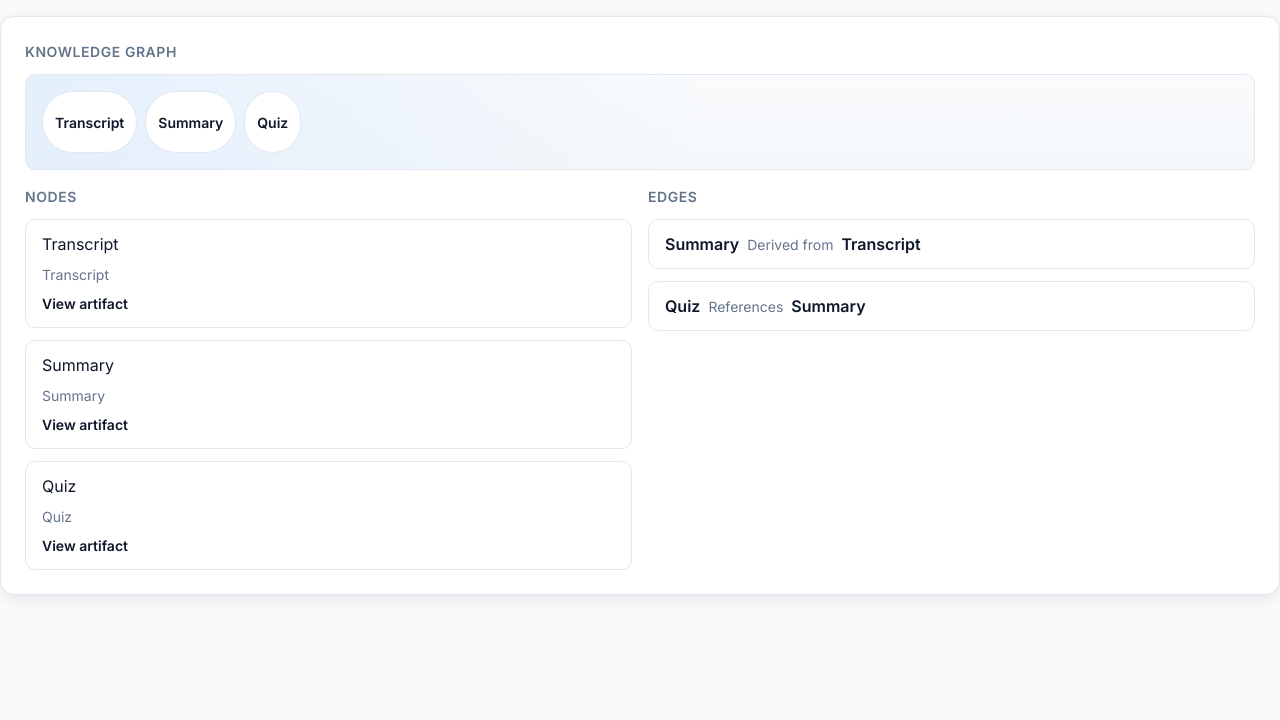
Test: KnowledgeGraphPanel › shows message when selected artifact has no neighbors
The image size is (1280, 720).
Click the button with test id "graph-node-select-550e8400-e29b-41d4-a716-446655440001" at (80, 244), box [42, 232, 615, 285]
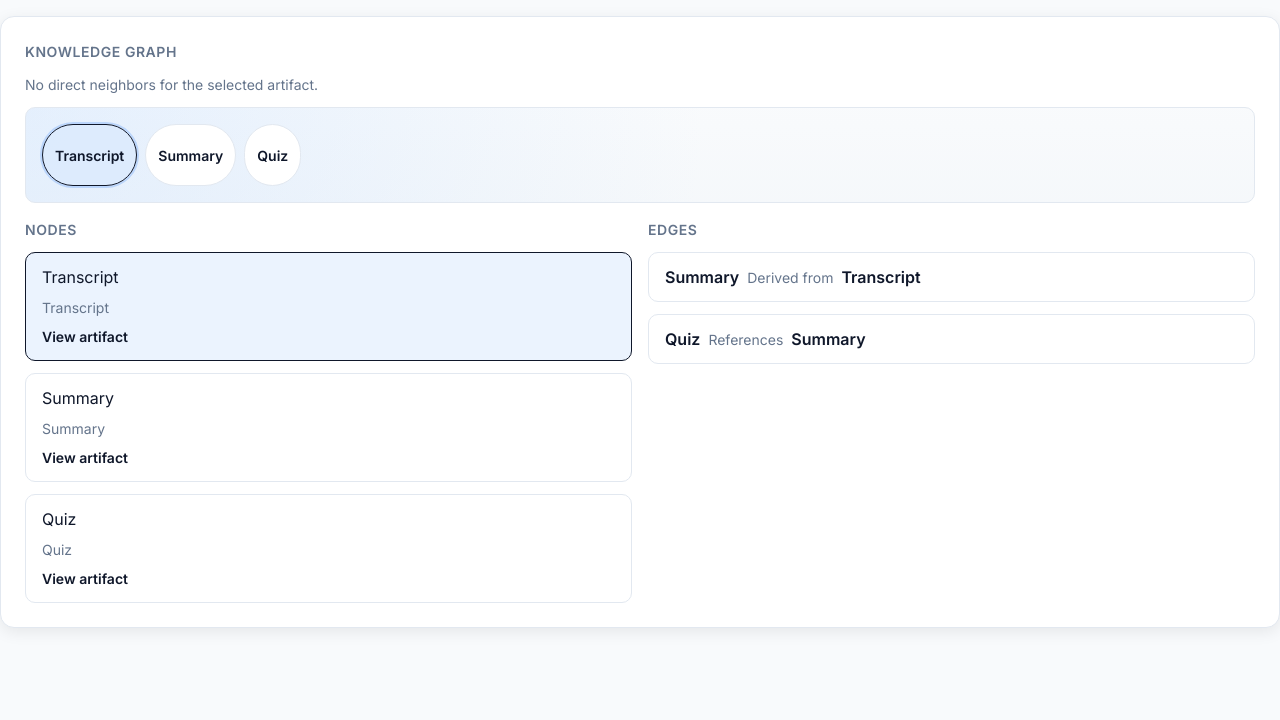
Now the text "No direct neighbors for the selected artifact." is shown, box [25, 76, 318, 93]
